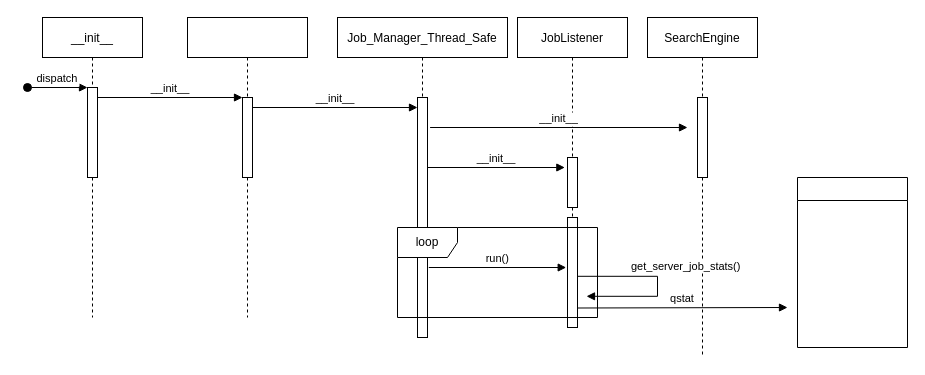
This 925x375 diagram has some shape labels left out. The shapes that lost their labels are listed below. From the top down, each one's box as (x1, y1, x2, y2) in pixels, then its label:
(186, 16, 308, 318): Job_Manager_API
(796, 176, 908, 348): Queue
